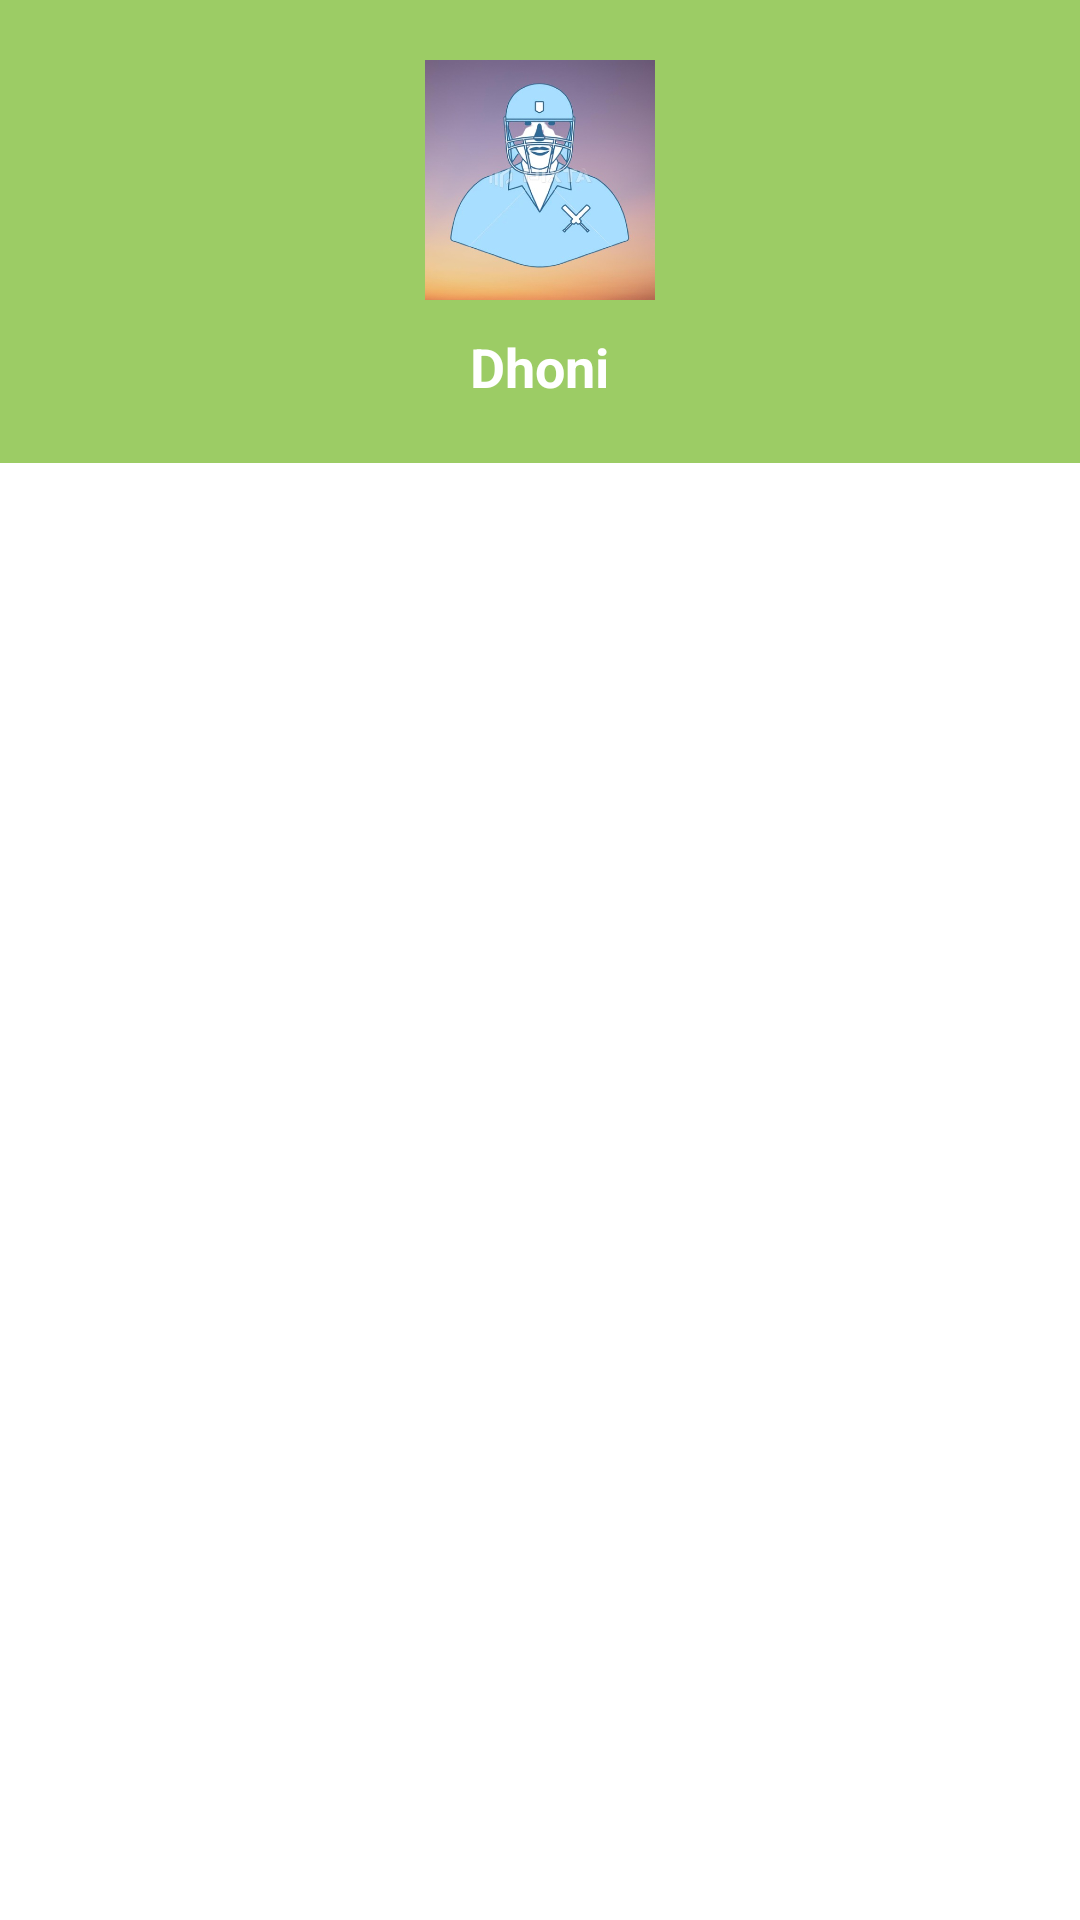

Icon bounding boxes for this 1080 x 1920 phone screenshot, format (x1, y1, x2, y2):
cricket user: (425, 60, 655, 300)
